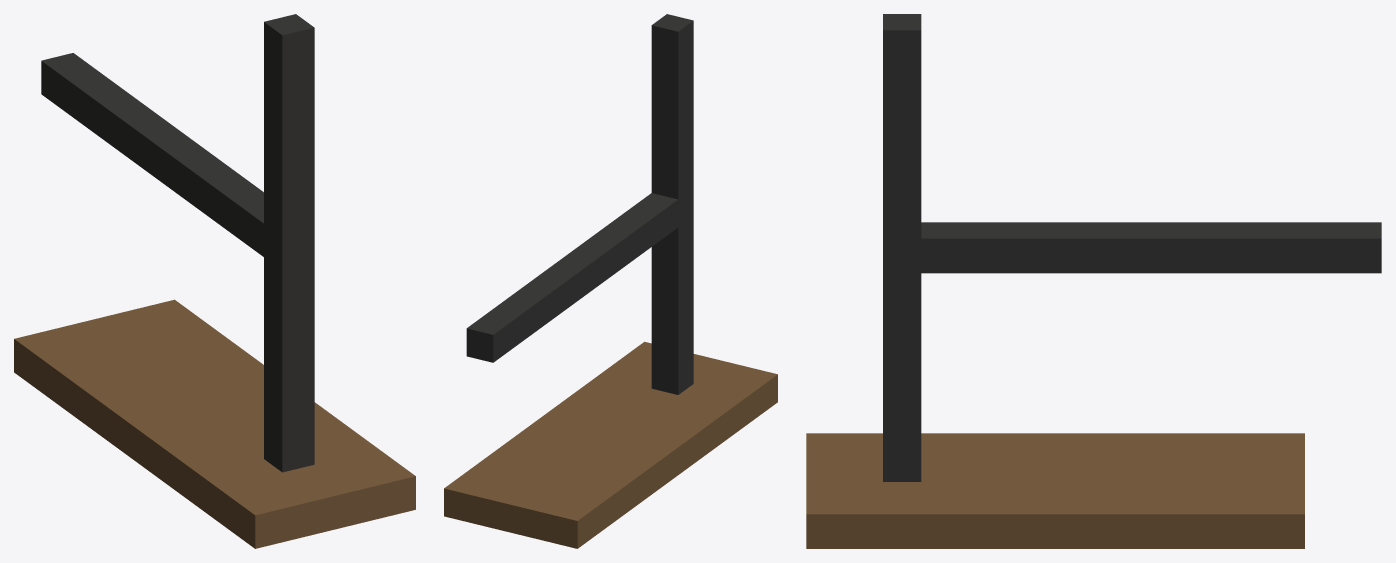
File: arte2.gltf
The picture shows the model from 3 angles, left to right: view 1: azimuth 30°, elevation 25°; view 2: azimuth 150°, elevation 25°; view 3: azimuth 270°, elevation 25°; orthographic projection. The views are drawn at different scales.
Visible parts, largest first — view 1: cube (×3); view 2: cube (×3); view 3: cube (×3).
Part boxes in pixels (x1,y1,x2,y2): cube (×3): (14,14,415,548); cube (×3): (444,14,777,548); cube (×3): (806,14,1381,548).
Size of the model in its own units: 0.3125 by 0.875 by 0.9375.
